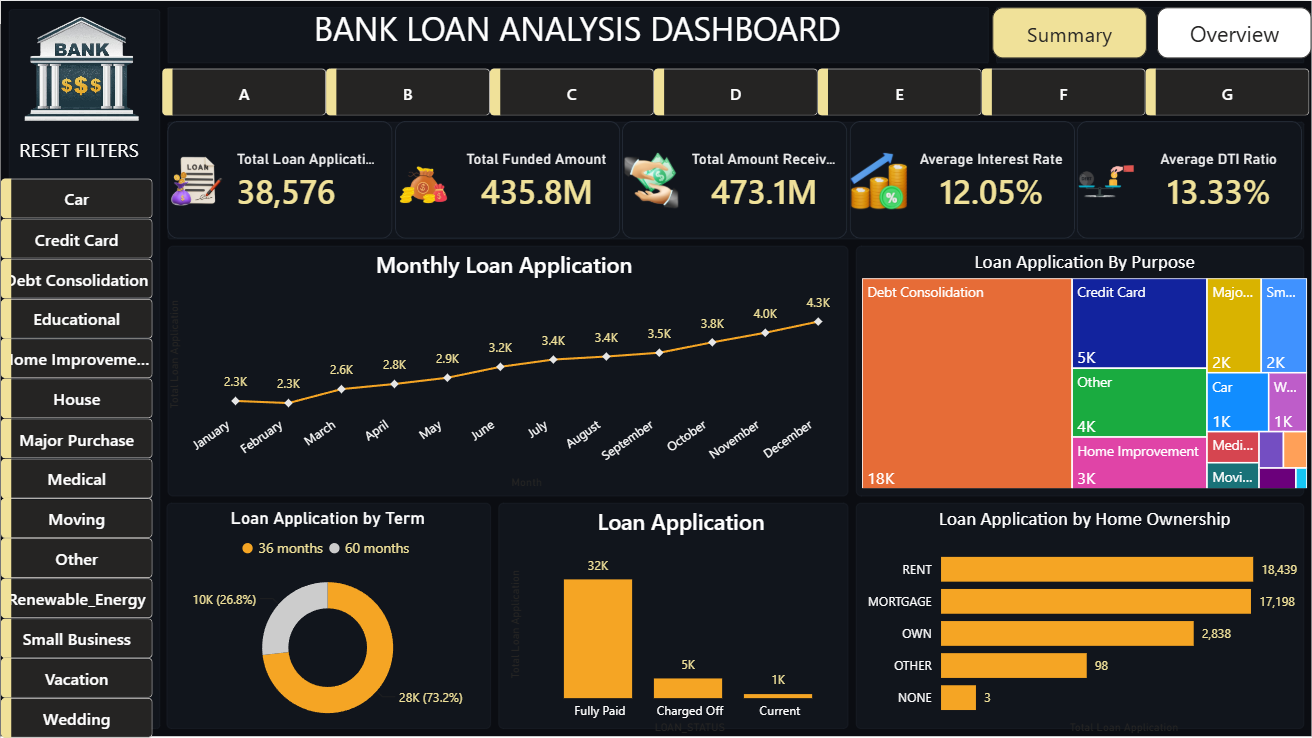

The dashboard page shown, as its layout file describes it:
{"tool":"powerbi","page":{"name":"Overview","canvas":[1920,1080],"ordinal":1},"visuals":[{"type":"cardVisual","fields":{"Data":["financial_loan.Total Loan Application","financial_loan.Total Funded Amount","financial_loan.Total Amount Received","financial_loan.Average Interest Rate","financial_loan.Average DTI Rate"]},"box":[250,187.8,1653.3,153.3],"z":0},{"type":"image","box":[0,0,250,210],"z":1000},{"type":"advancedSlicerVisual","fields":{"Values":["financial_loan.PURPOSE"]},"box":[14.3,264.3,211.4,802.9],"z":2000},{"type":"advancedSlicerVisual","fields":{"Values":["financial_loan.GRADE"]},"box":[260,113,1643,44],"z":3000},{"type":"actionButton","box":[14.3,200,211.4,50],"z":4000},{"type":"textbox","box":[250,24.3,1197.1,68.6],"z":5000},{"type":"pageNavigator","box":[1488.6,24.3,400,50],"z":6000},{"type":"lineChart","title":"Monthly Loan Applications","fields":{"Category":["financial_loan.ISSUE_DATE.Variation.Date Hierarchy.Month"],"Y":["financial_loan.Total Loan Application"]},"box":[250,365.7,985.7,348.6],"z":7000},{"type":"donutChart","title":"Loan Applications by Term","fields":{"Category":["financial_loan.TERM"],"Y":["financial_loan.Total Loan Application"]},"box":[250,738.6,458.6,328.6],"z":8000},{"type":"clusteredBarChart","title":"Loan Applications by Home Ownership","fields":{"Category":["financial_loan.HOME_OWNERSHIP"],"Y":["financial_loan.Total Loan Application"]},"box":[742.9,741.4,492.9,321.4],"z":9000},{"type":"treemap","title":"Loan Applications by Purpose","fields":{"Group":["financial_loan.PURPOSE"],"Values":["financial_loan.Total Loan Application"]},"box":[1271.4,738.6,617.1,324.3],"z":10000},{"type":"azureMap","title":"Loan Applications by State","fields":{"Category":["financial_loan.ADDRESS_STATE"],"Size":["financial_loan.Total Loan Application"]},"box":[1271.4,365.7,631.4,350],"z":11000}]}

Visuals, with their boxes in screenshot pixels (x1, y1, x2, y2), scaled from the page's 1920x1080 canvas onto the 1312x738 screenshot:
cardVisual - financial_loan.Total Loan Application x financial_loan.Total Funded Amount: 171:128:1301:233
image: 0:0:171:144
advancedSlicerVisual - financial_loan.PURPOSE: 10:181:154:729
advancedSlicerVisual - financial_loan.GRADE: 178:77:1300:107
actionButton: 10:137:154:171
textbox: 171:17:989:63
pageNavigator: 1017:17:1291:51
"Monthly Loan Applications" lineChart: 171:250:844:488
"Loan Applications by Term" donutChart: 171:505:484:729
"Loan Applications by Home Ownership" clusteredBarChart: 508:507:844:726
"Loan Applications by Purpose" treemap: 869:505:1290:726
"Loan Applications by State" azureMap: 869:250:1300:489
